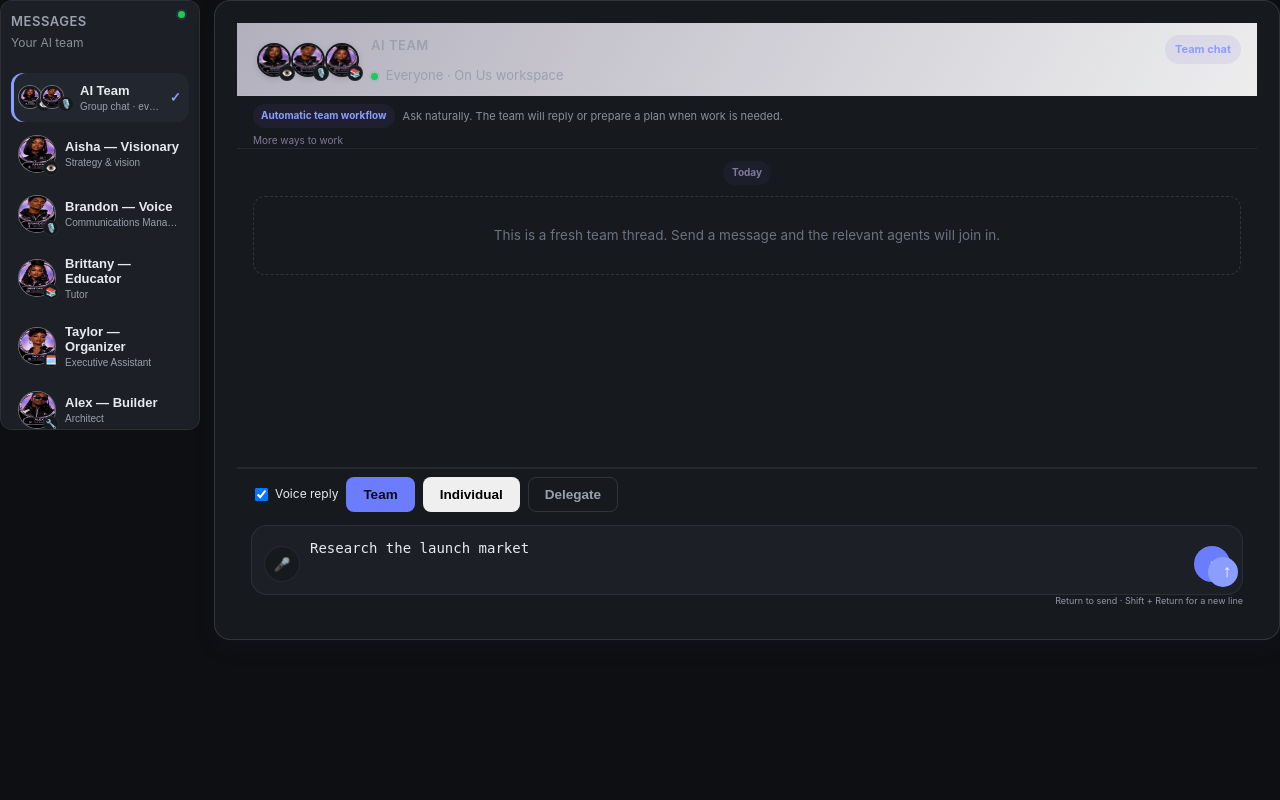
Scenario: Team Chat (component) › sends to the team and renders per-agent bubbles
Earlier steps of the test are not shown.
Click the button with test id "team-chat-send": (1223,572) [1208,557,1238,587]
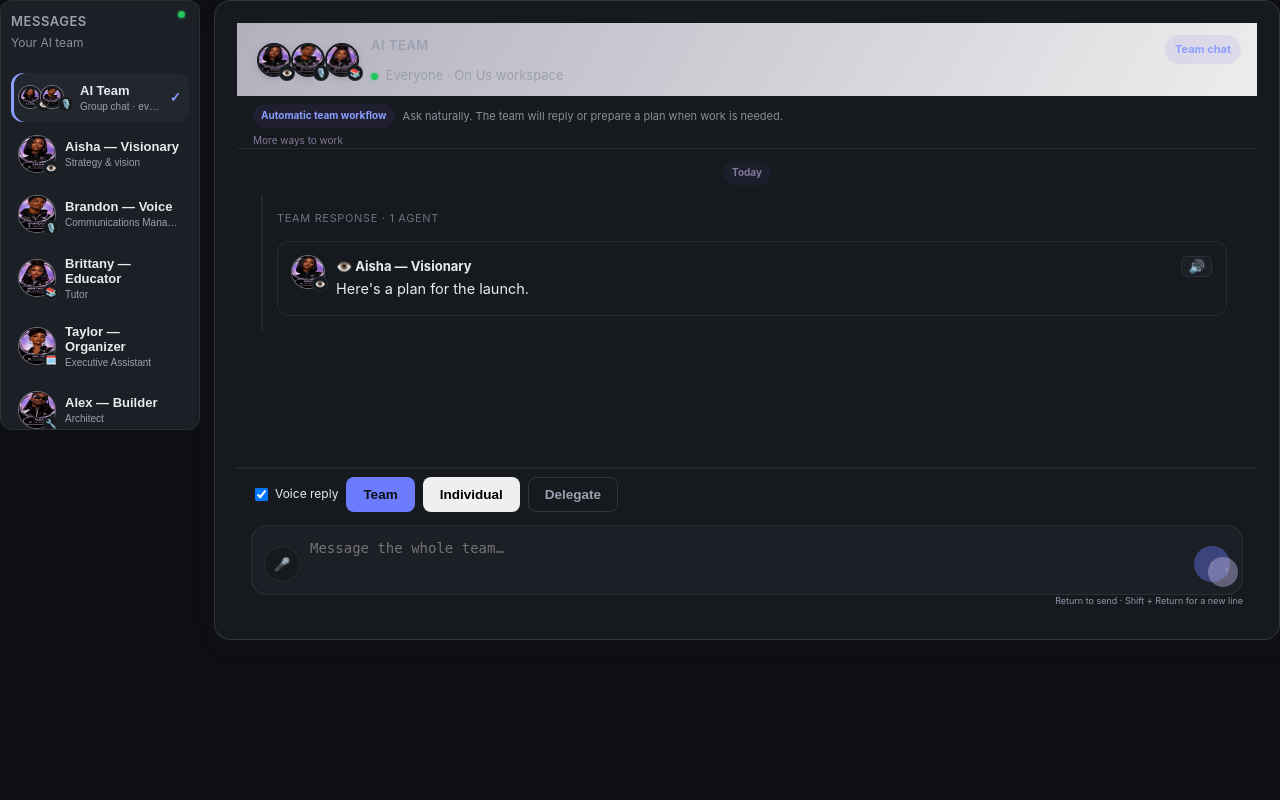
Expected: the text "Here's a plan for the launch." is shown, [336,280,529,297]
